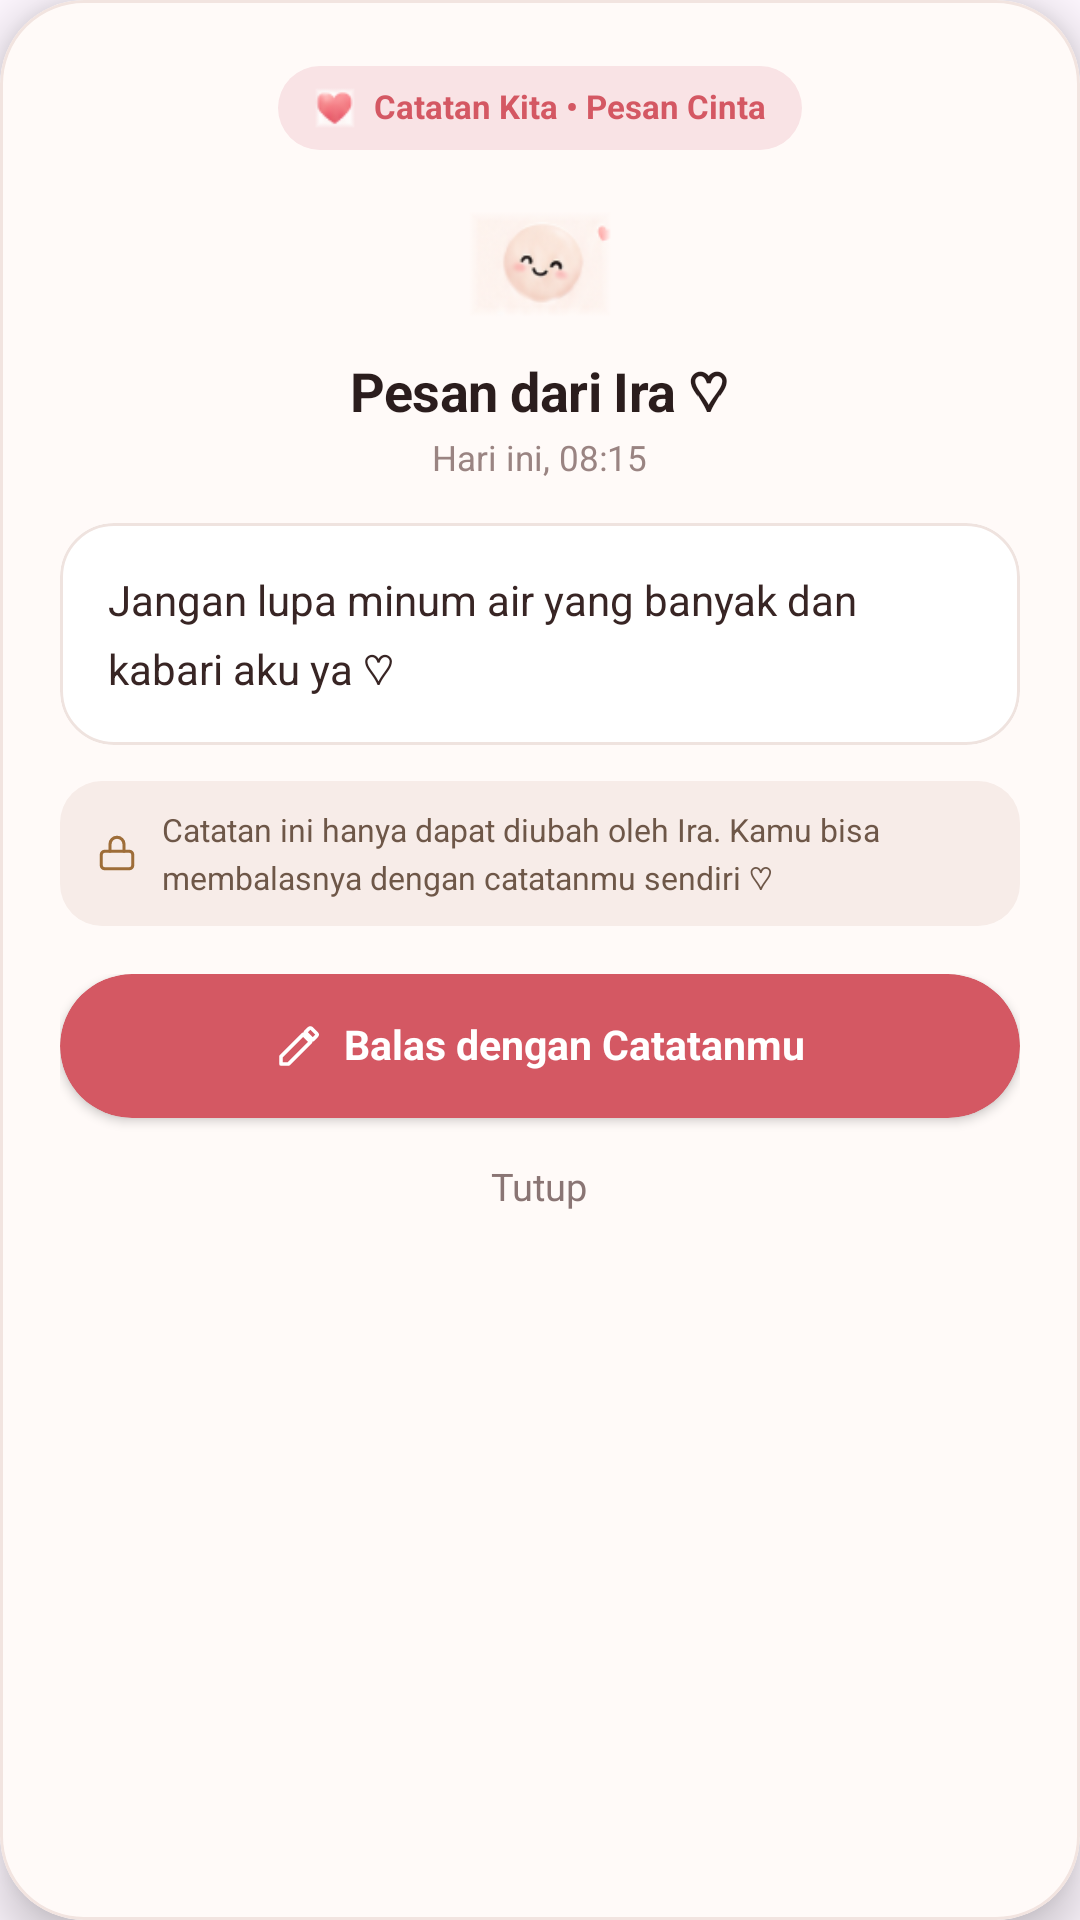

Where icons sit on this 1080*1920 app screen, as (x1, y1, x2, y2):
edit pencil: (279, 1026, 319, 1066)
heart 3d: (317, 93, 352, 124)
mood pasangan: (503, 226, 608, 302)
signin lock: (99, 835, 135, 871)
